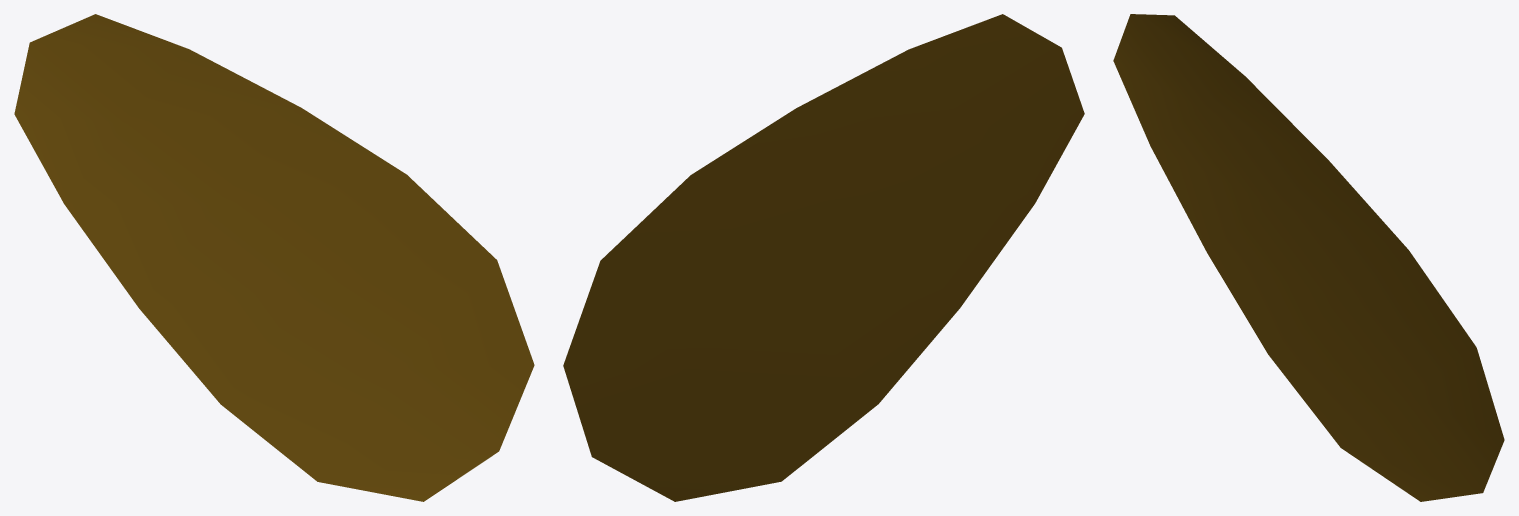
File: canary_feather_flight_secondary_029.obj
The picture shows the model from 3 angles, left to right: view 1: azimuth 30°, elevation 25°; view 2: azimuth 150°, elevation 25°; view 3: azimuth 330°, elevation 25°; orthographic projection. The views are drawn at different scales.
Visible parts, largest first — view 1: feather_flight_secondary_029; view 2: feather_flight_secondary_029; view 3: feather_flight_secondary_029.
Part boxes in pixels (x1=…): feather_flight_secondary_029: x1=14, y1=14, x2=534, y2=501; feather_flight_secondary_029: x1=563, y1=14, x2=1084, y2=501; feather_flight_secondary_029: x1=1113, y1=14, x2=1504, y2=501.
Bounding box in the file's own units: 0.0129 × 0.0135 × 0.000172.
